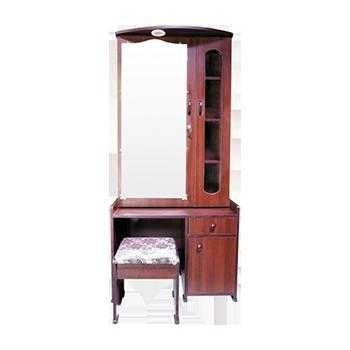obstacle: (112, 26, 238, 323)
